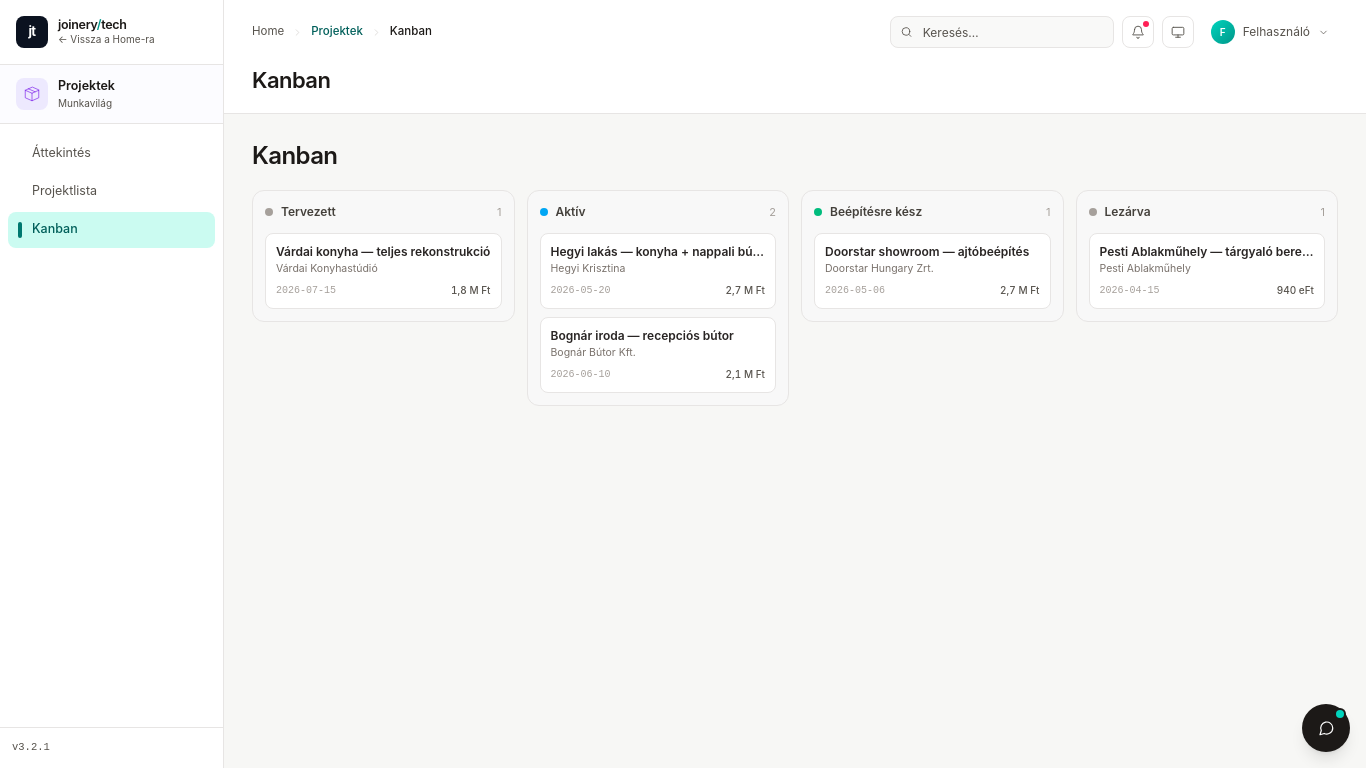
Test: ProjectsPage › clicking kanban card opens detail SlideOver
The width and height of the screenshot is (1366, 768).
Click the text "Doorstar showroom — ajtóbeépítés" at (932, 252), box [825,244,1040,259]
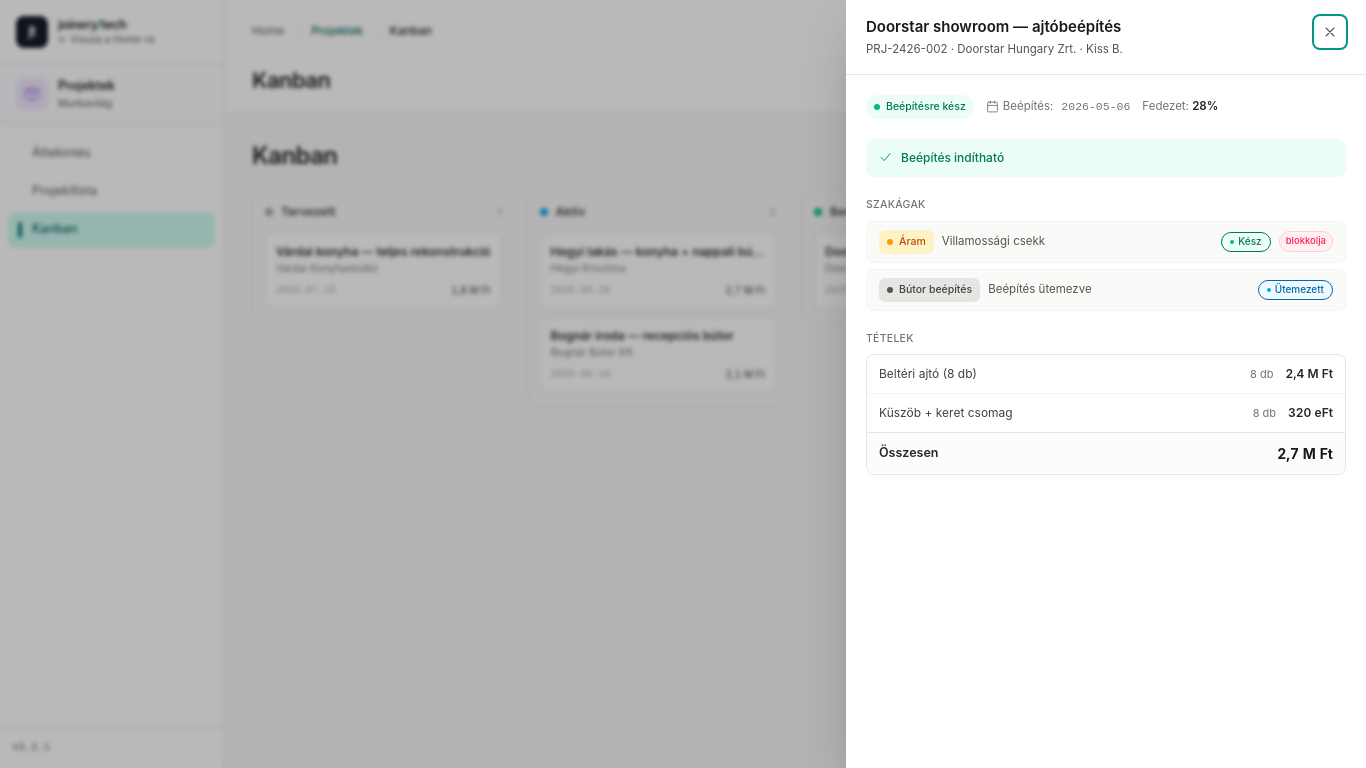
Check: the text "PRJ-2426-002 · Doorstar Hungary Zrt. · Kiss B." is shown, box [866,42,1123,56]
